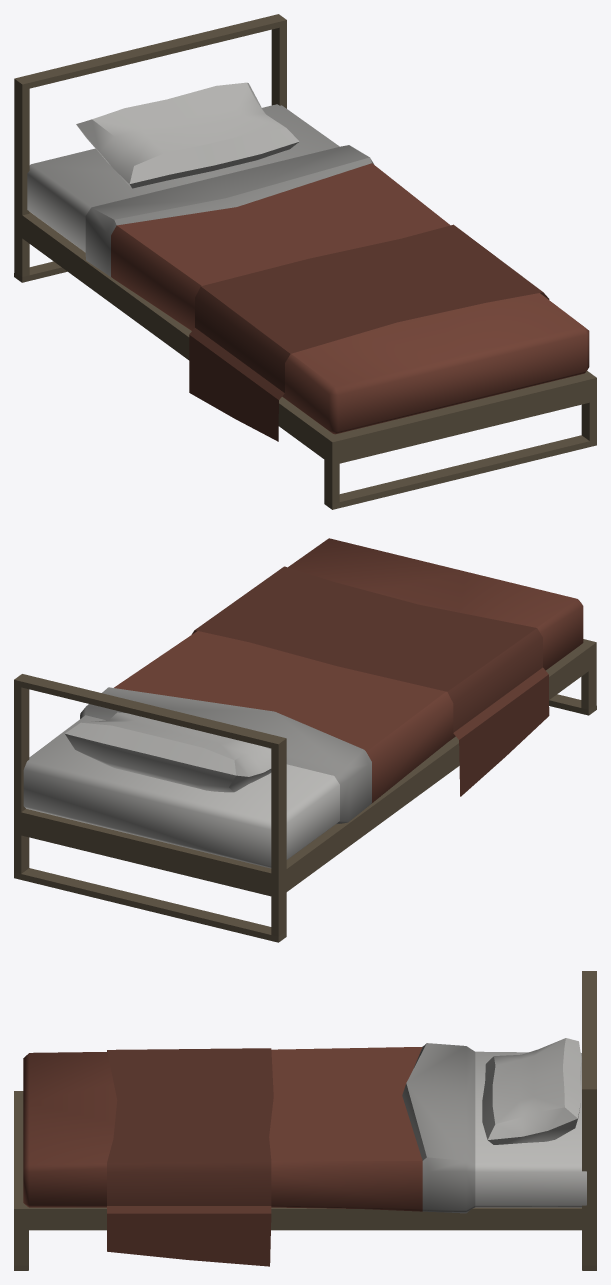
The model's file is Bed_Single.glb.
3 views of the same model, one above another, from view 1: azimuth 30°, elevation 25°; view 2: azimuth 150°, elevation 25°; view 3: azimuth 270°, elevation 25° (orthographic). The views are drawn at different scales.
Visible parts, largest first — view 1: Bed_Single; view 2: Bed_Single; view 3: Bed_Single.
Part boxes in pixels (<box>): Bed_Single: <box>14,14,596,509</box>; Bed_Single: <box>14,538,596,942</box>; Bed_Single: <box>14,971,596,1270</box>.
Bounding box in the file's own units: 1.98 × 1.35 × 3.94.
